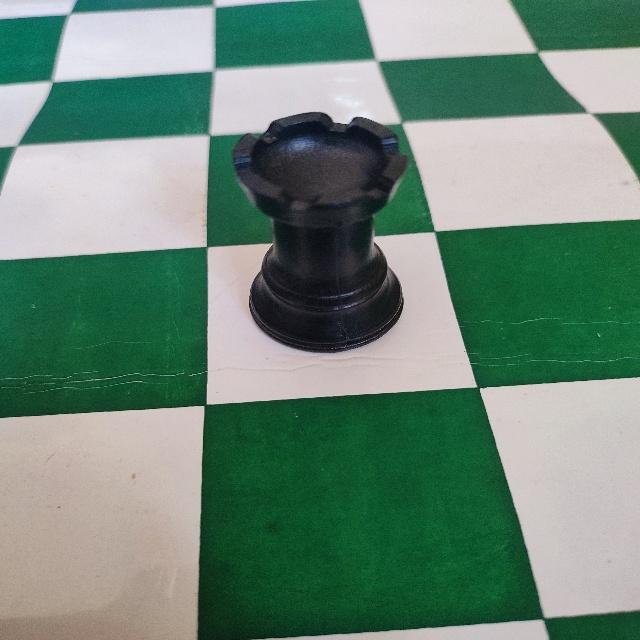Rook: (232, 110, 414, 356)
